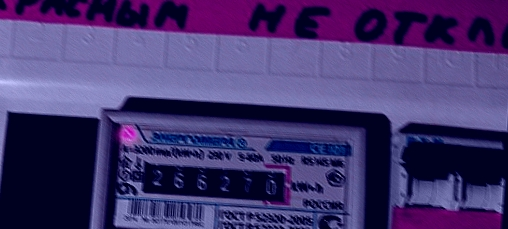0: (264, 176, 277, 194)
2: (149, 166, 163, 185), (218, 172, 230, 190)
6: (172, 168, 185, 187), (195, 171, 208, 190)
7: (241, 173, 253, 192)
screen: (131, 150, 297, 210)
